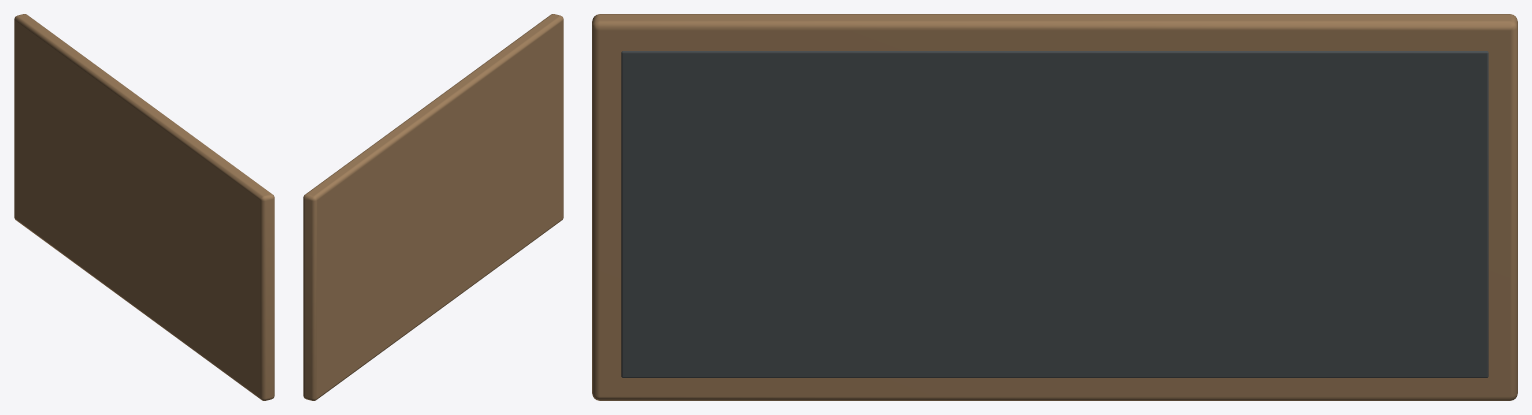
Rendered from QuietOccupancyPanel.fbx.
3 renders of one model, left to right at view 1: azimuth 30°, elevation 25°; view 2: azimuth 150°, elevation 25°; view 3: azimuth 270°, elevation 25°, orthographic. The views are drawn at different scales.
Visible parts, largest first — view 1: QuietOccupancyPanel; view 2: QuietOccupancyPanel; view 3: QuietOccupancyPanel.
Boxes of the visible parts, x1,y1,x2,y2 form: QuietOccupancyPanel: (14,14,274,400); QuietOccupancyPanel: (303,14,563,400); QuietOccupancyPanel: (592,14,1517,400).
Bounding box in the file's own units: 0.068 × 0.86 × 1.9.
